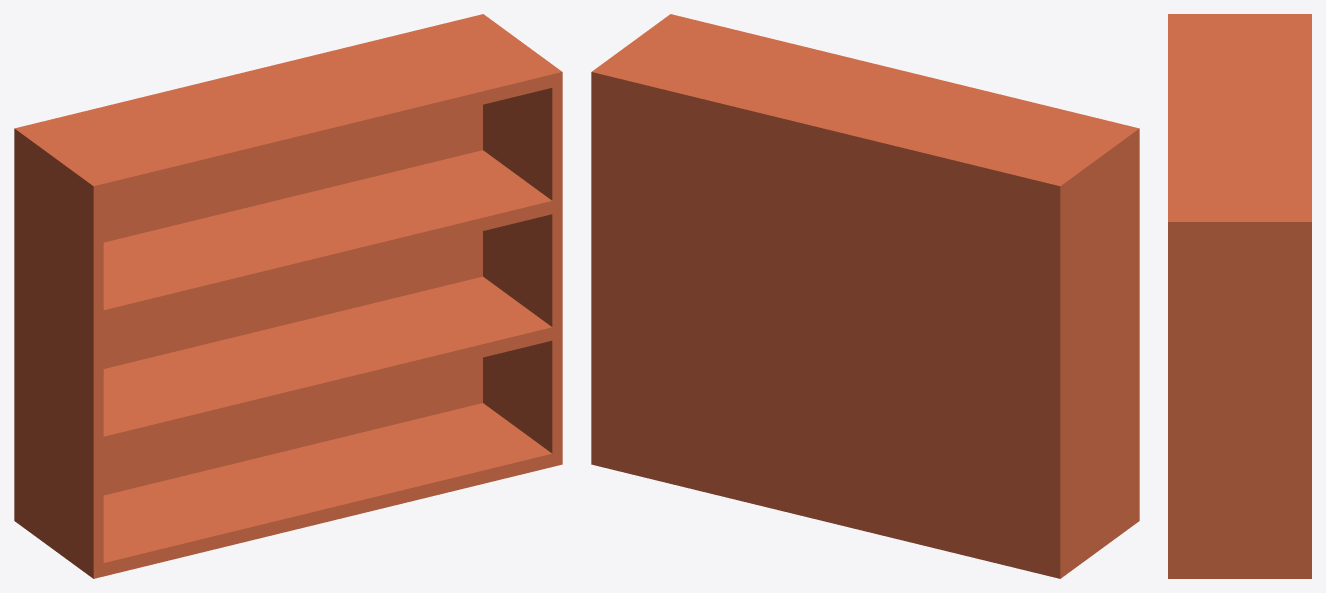
The model's file is ShelfforBooks.fbx.
The picture shows the model from 3 angles, left to right: view 1: azimuth 30°, elevation 25°; view 2: azimuth 150°, elevation 25°; view 3: azimuth 270°, elevation 25°; orthographic projection. The views are drawn at different scales.
Visible parts, largest first — view 1: ShelfBig; view 2: ShelfBig; view 3: ShelfBig.
Boxes of the visible parts, x1,y1,x2,y2 form: ShelfBig: (14, 14, 562, 578); ShelfBig: (591, 14, 1139, 578); ShelfBig: (1168, 14, 1311, 578).
Bounding box in the file's own units: 222 × 178 × 64.87.
